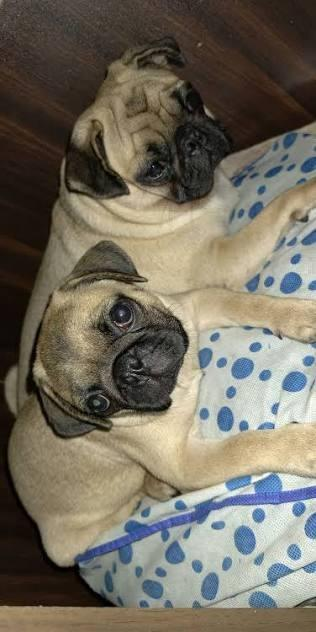adult_dog: (4, 35, 315, 416), (8, 241, 316, 568)
